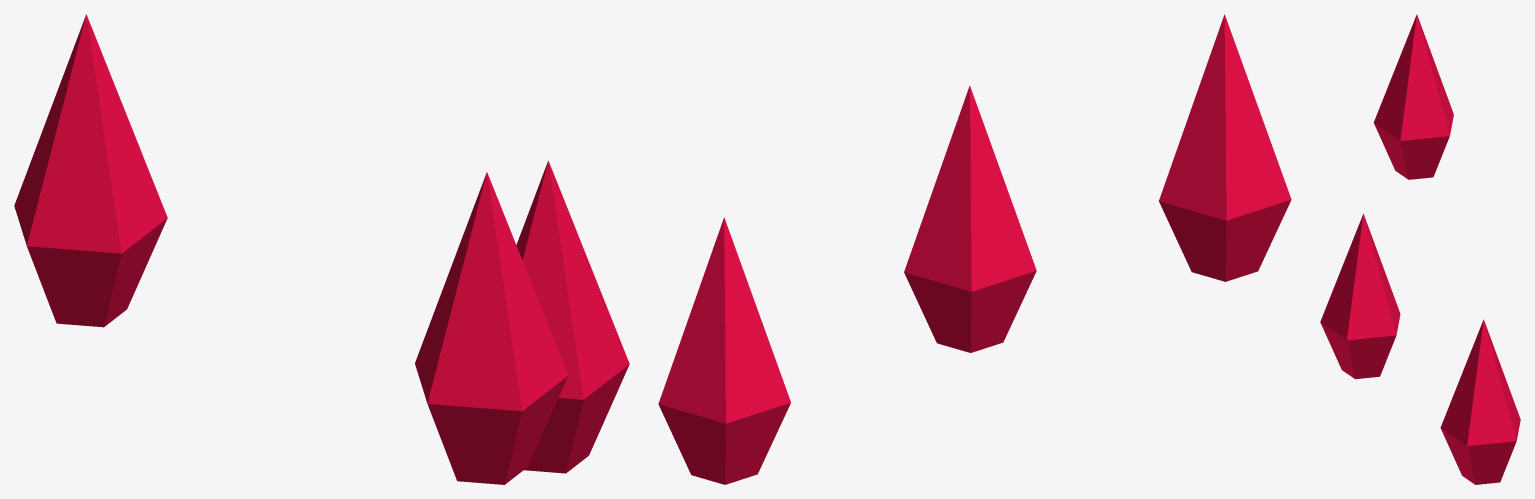
File: flames1.glb
The picture shows the model from 3 angles, left to right: view 1: azimuth 30°, elevation 25°; view 2: azimuth 150°, elevation 25°; view 3: azimuth 270°, elevation 25°; orthographic projection. The views are drawn at different scales.
Visible parts, largest first — view 1: Flames1; view 2: Flames1; view 3: Flames1.
Boxes of the visible parts, bbox=[...] form: Flames1: bbox=[14, 14, 629, 484]; Flames1: bbox=[658, 14, 1291, 484]; Flames1: bbox=[1320, 14, 1520, 484].
Size of the model in its own units: 0.6033 by 0.54 by 0.3002.
